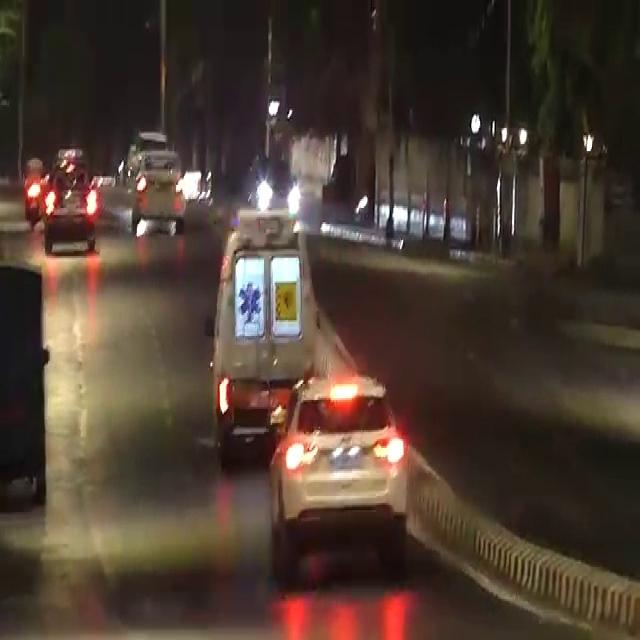ambulance: (209, 194, 315, 467)
